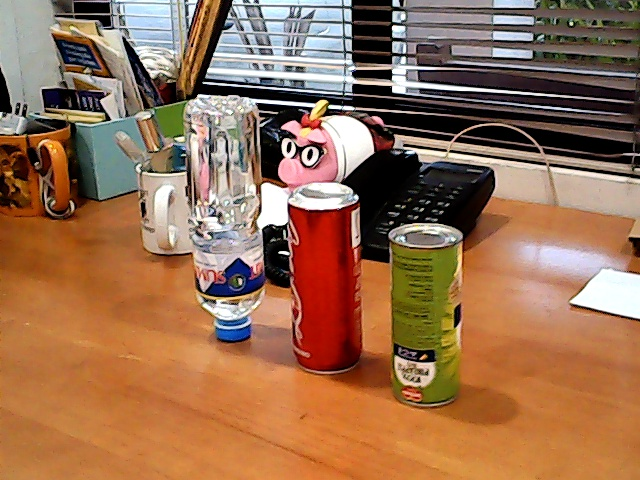Cola: (273, 175, 376, 384)
Pine Juice: (373, 209, 472, 417)
Summit Water: (165, 89, 277, 350)
